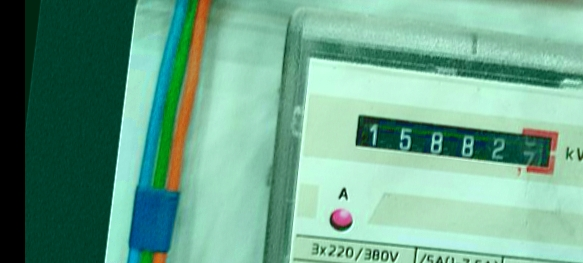1: (368, 121, 383, 148)
2: (491, 136, 510, 163)
5: (398, 126, 415, 153)
7: (522, 148, 538, 167)
8: (429, 129, 448, 156), (461, 133, 479, 160)
screen: (345, 103, 569, 185)
